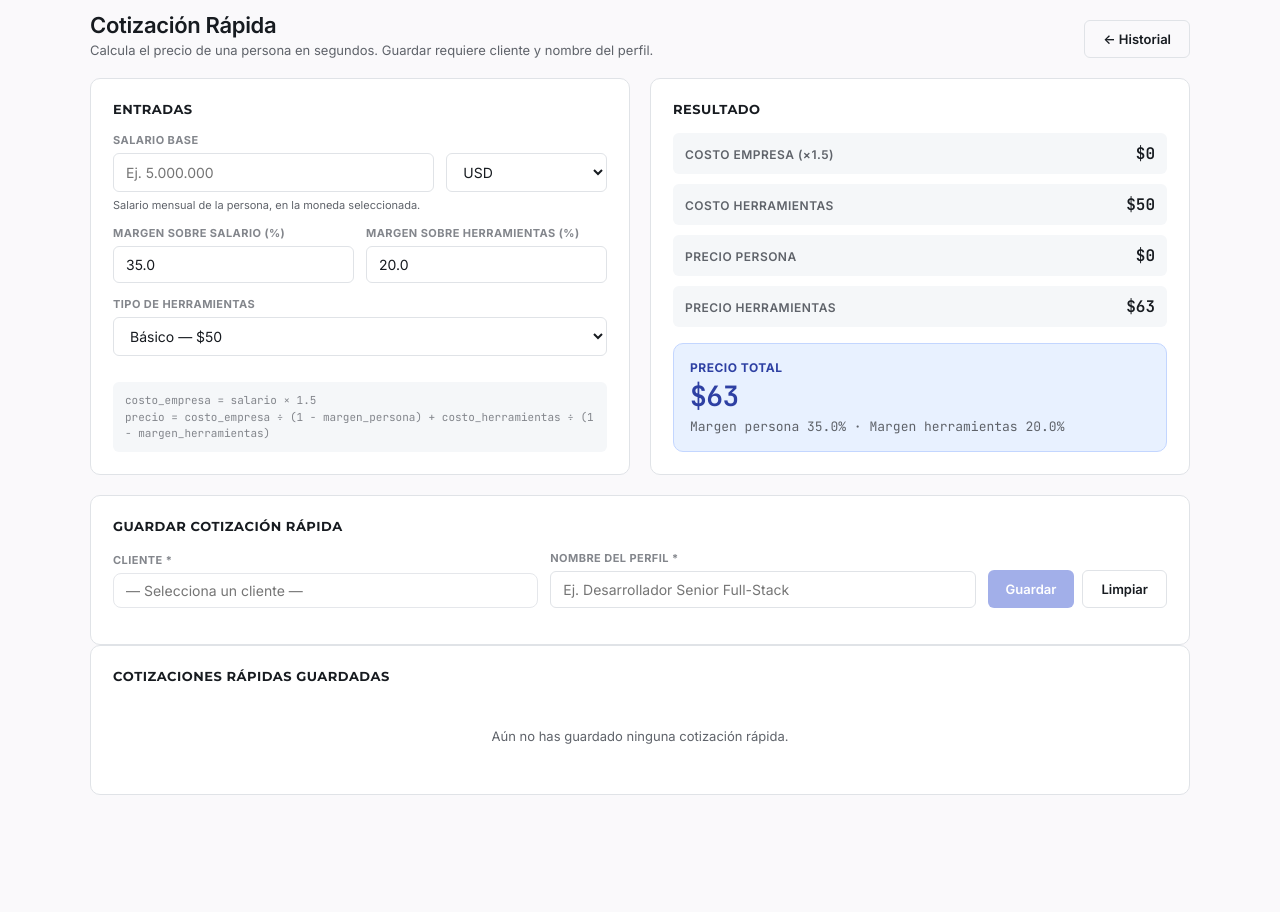
Scenario: QuickQuote › computes price = costo_empresa/(1-mP) + costo_herramientas/(1-mH)
Type "1000" into the field labelled "Salario base" at {"x": 274, "y": 172}, box 113,153 -> 434,192
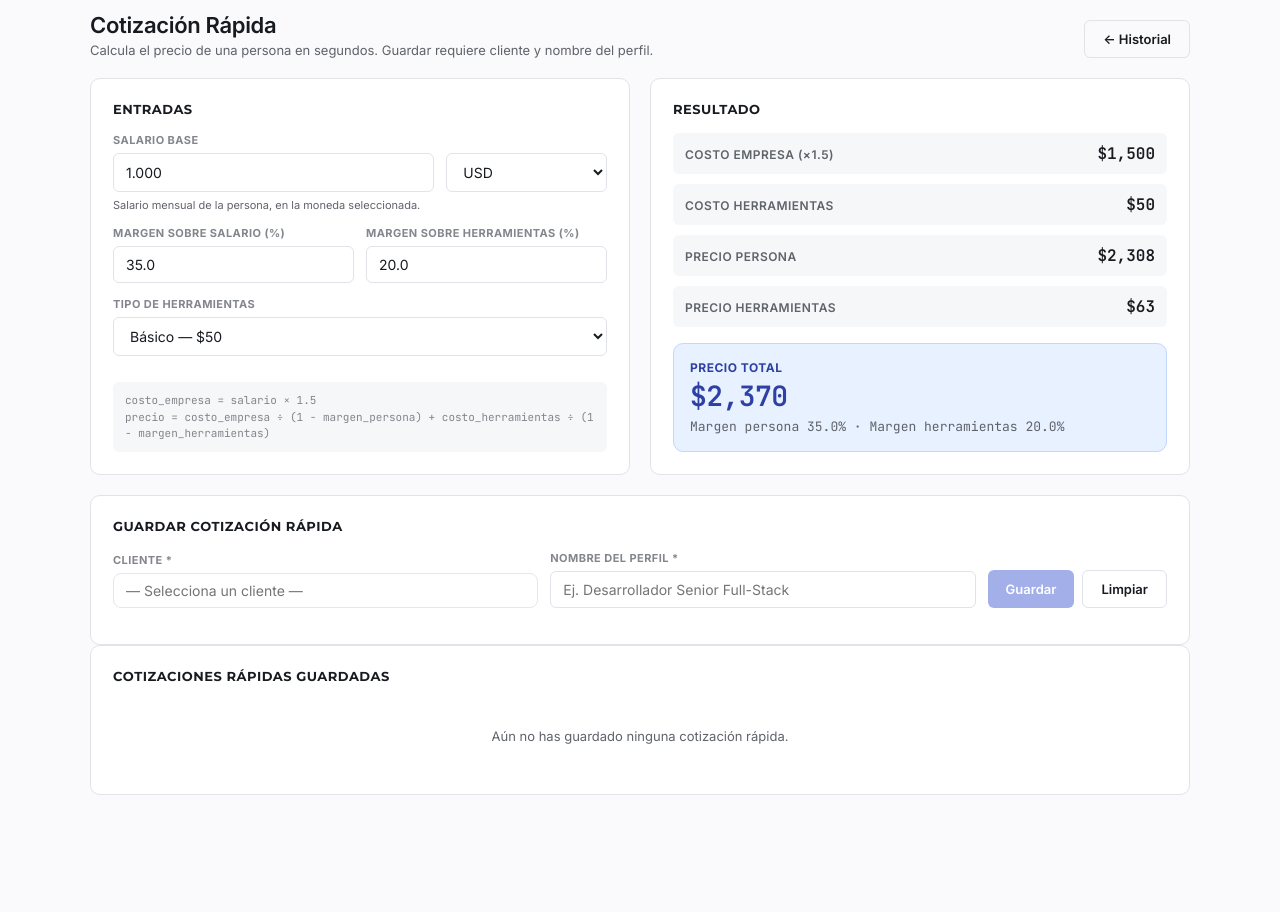
Now the text "$2,370" is shown, box 690,377 -> 788,414
Now the text "$1,500" is shown, box 1097,143 -> 1155,164
